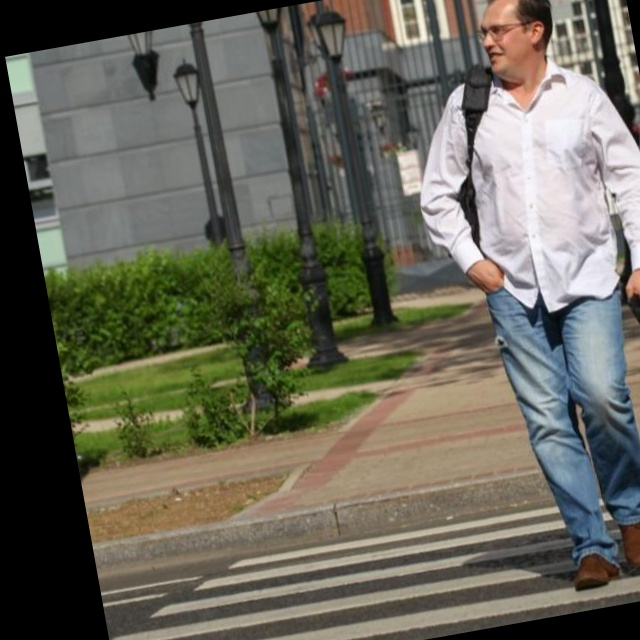Sin_Casco_Mascarrilla: (474, 0, 562, 80)
Sin_Chaleco: (437, 59, 639, 323)
